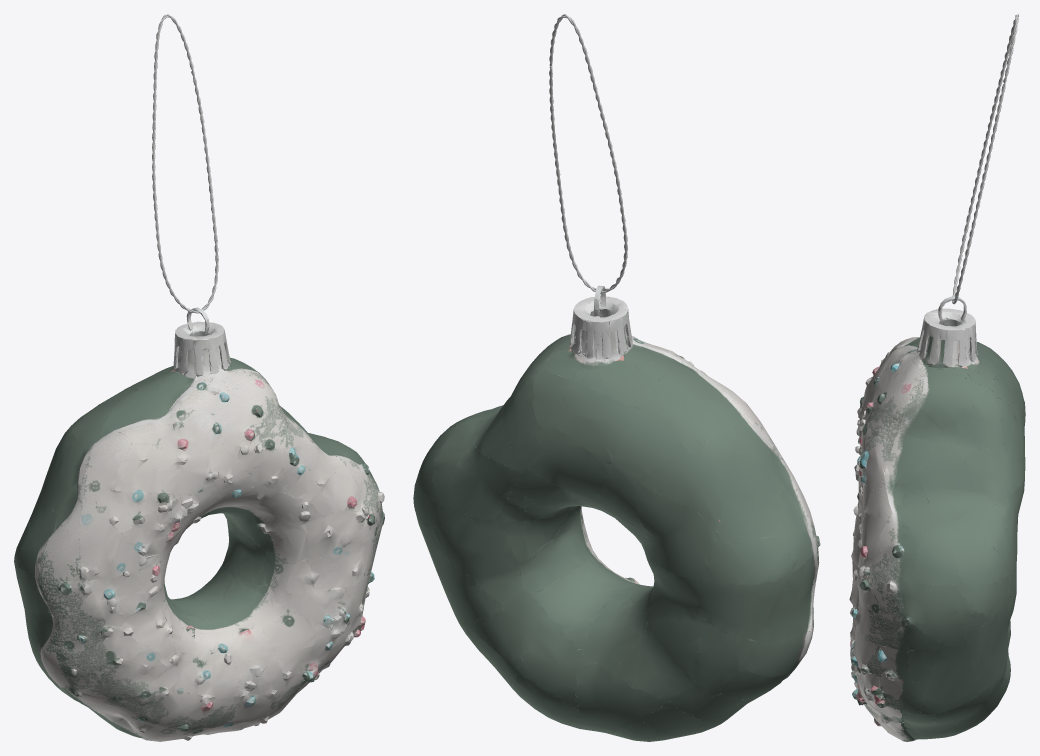
The model's file is metal_donut2.glb.
3 renders of one model, left to right at view 1: azimuth 30°, elevation 25°; view 2: azimuth 150°, elevation 25°; view 3: azimuth 270°, elevation 25°, orthographic. The views are drawn at different scales.
Visible parts, largest first — view 1: mesh_0, GN Instance; view 2: mesh_0, GN Instance; view 3: mesh_0, GN Instance.
Part boxes in pixels (left/top/right/bottom): mesh_0: left=14, top=307, right=384, bottom=741; GN Instance: left=152, top=14, right=218, bottom=313; mesh_0: left=413, top=285, right=820, bottom=741; GN Instance: left=549, top=14, right=627, bottom=293; mesh_0: left=849, top=296, right=1025, bottom=741; GN Instance: left=952, top=14, right=1018, bottom=304.
Bounding box in the file's own units: 0.0751 × 0.1411 × 0.0318.
Materials: 2 (1 with a texture image).
